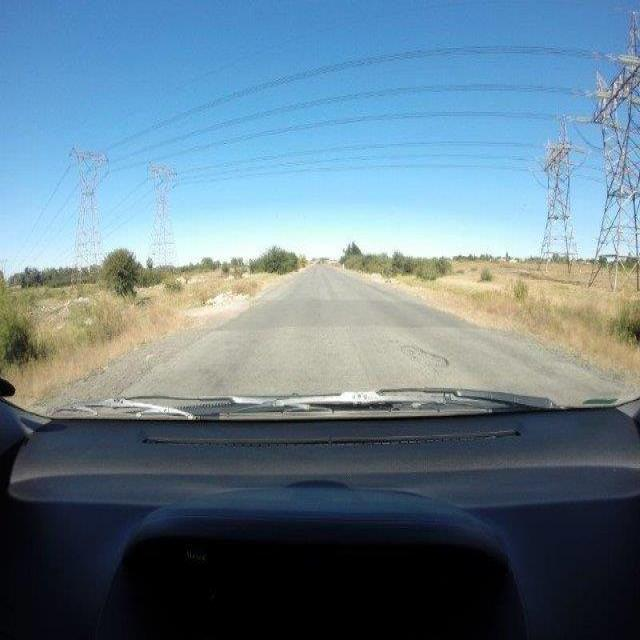lubang: (395, 341, 455, 372)
